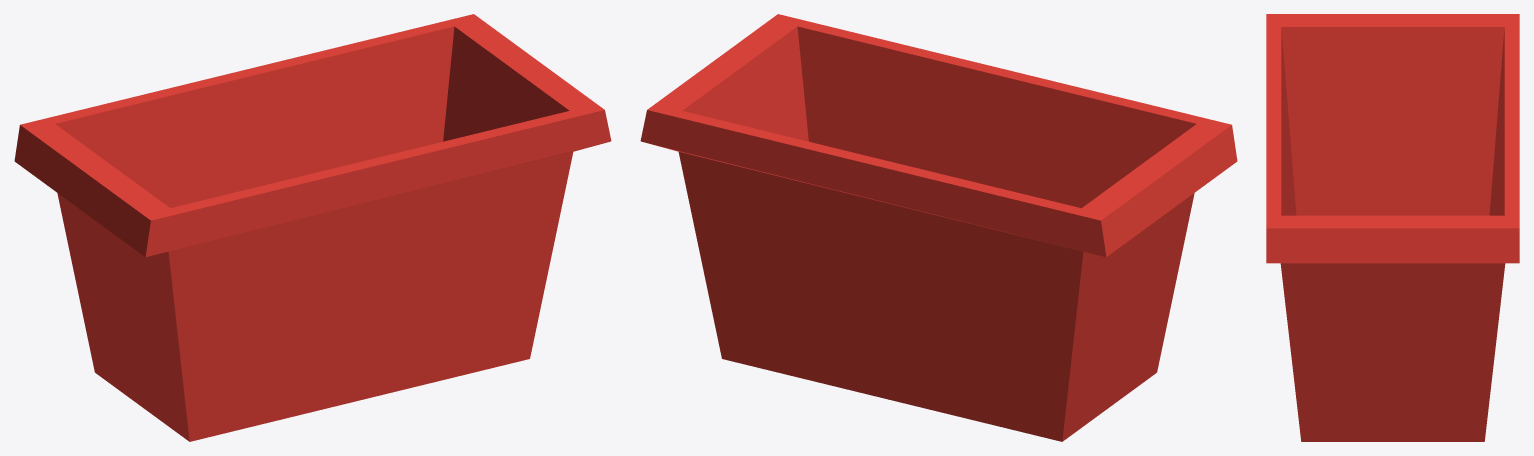
The model's file is kosarica.fbx.
The picture shows the model from 3 angles, left to right: view 1: azimuth 30°, elevation 25°; view 2: azimuth 150°, elevation 25°; view 3: azimuth 270°, elevation 25°; orthographic projection. The views are drawn at different scales.
Parts seen in each view (by area): view 1: Cube; view 2: Cube; view 3: Cube.
Boxes of the visible parts, box(x1,y1,x2,y2) form: Cube: box(14, 14, 611, 441); Cube: box(640, 14, 1237, 441); Cube: box(1266, 14, 1519, 441).
Bounding box in the file's own units: 234 × 119 × 114.
